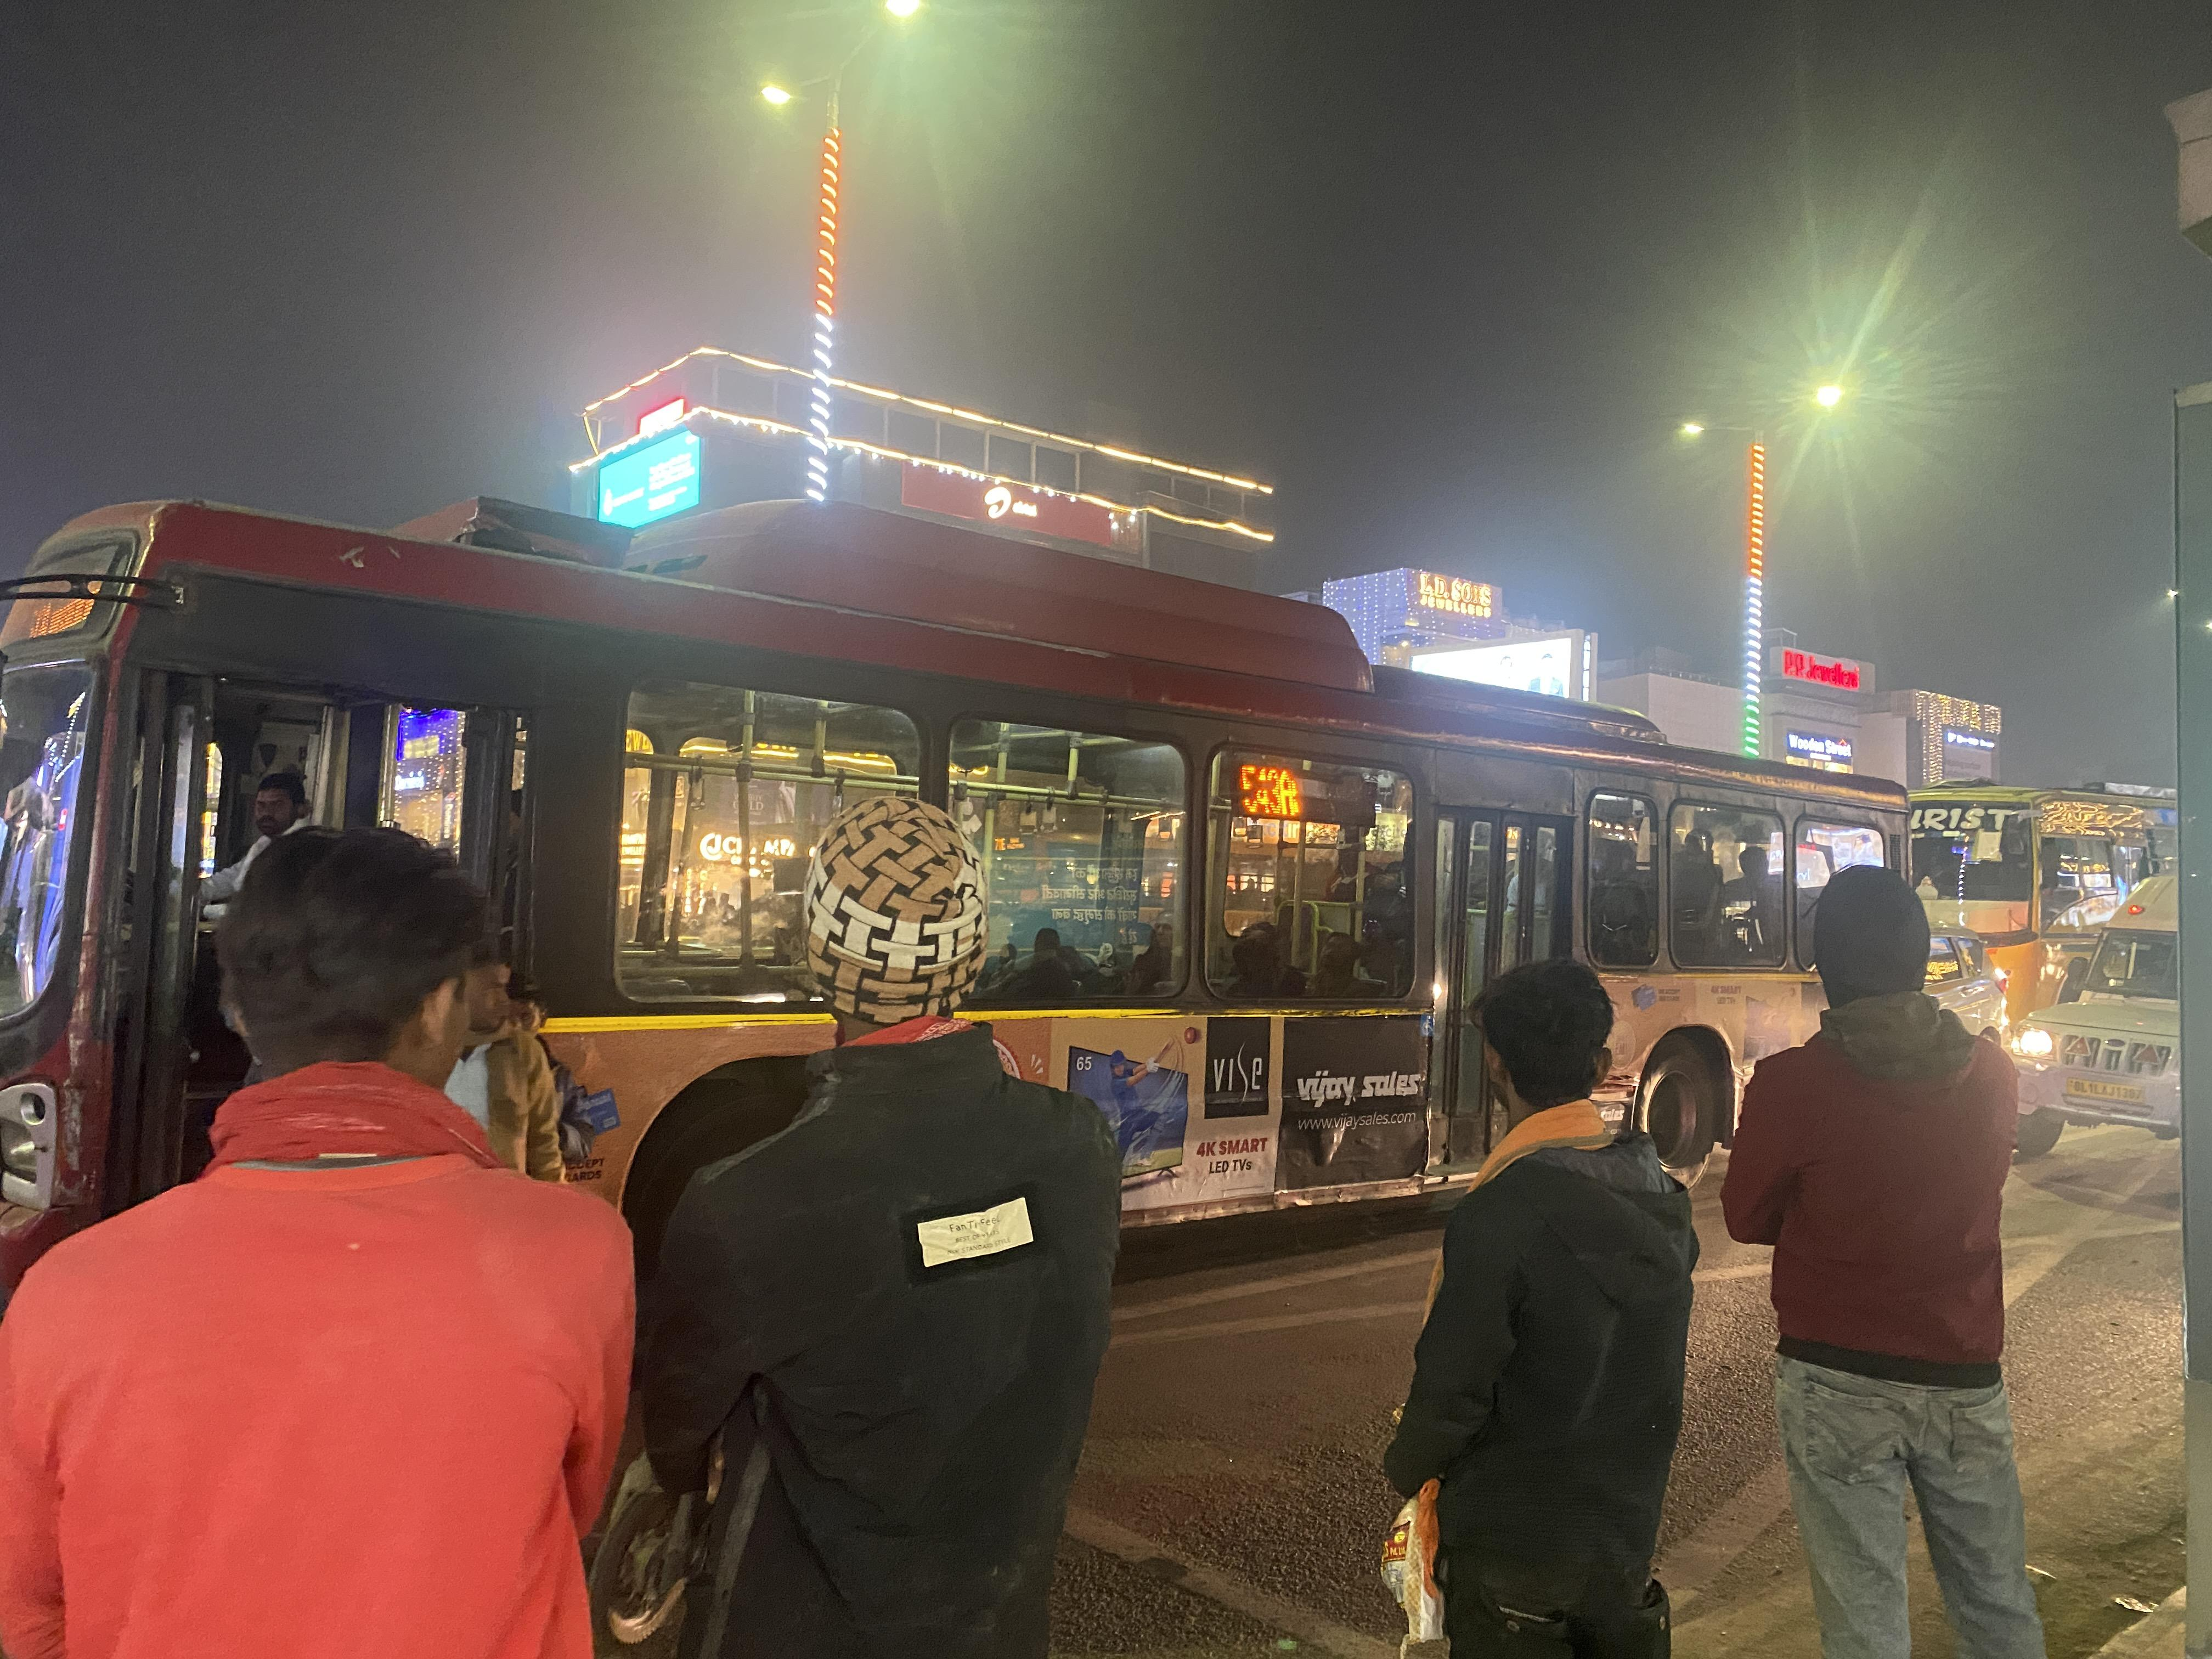Bus: (0, 444, 2134, 1310)
Display Board: (0, 505, 181, 697), (1146, 730, 1388, 840)
